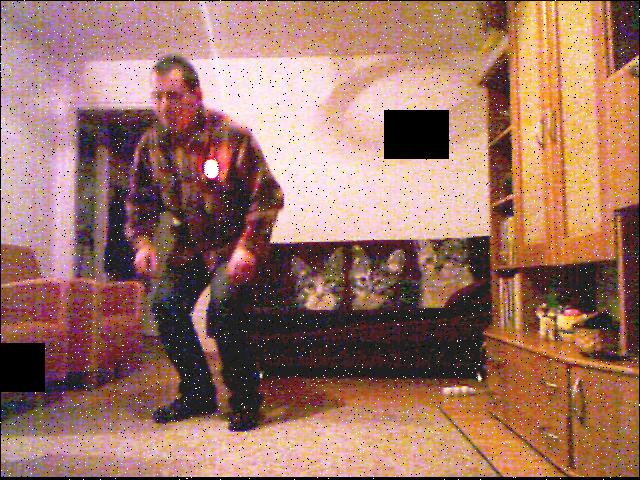sitting: (109, 49, 316, 444)
